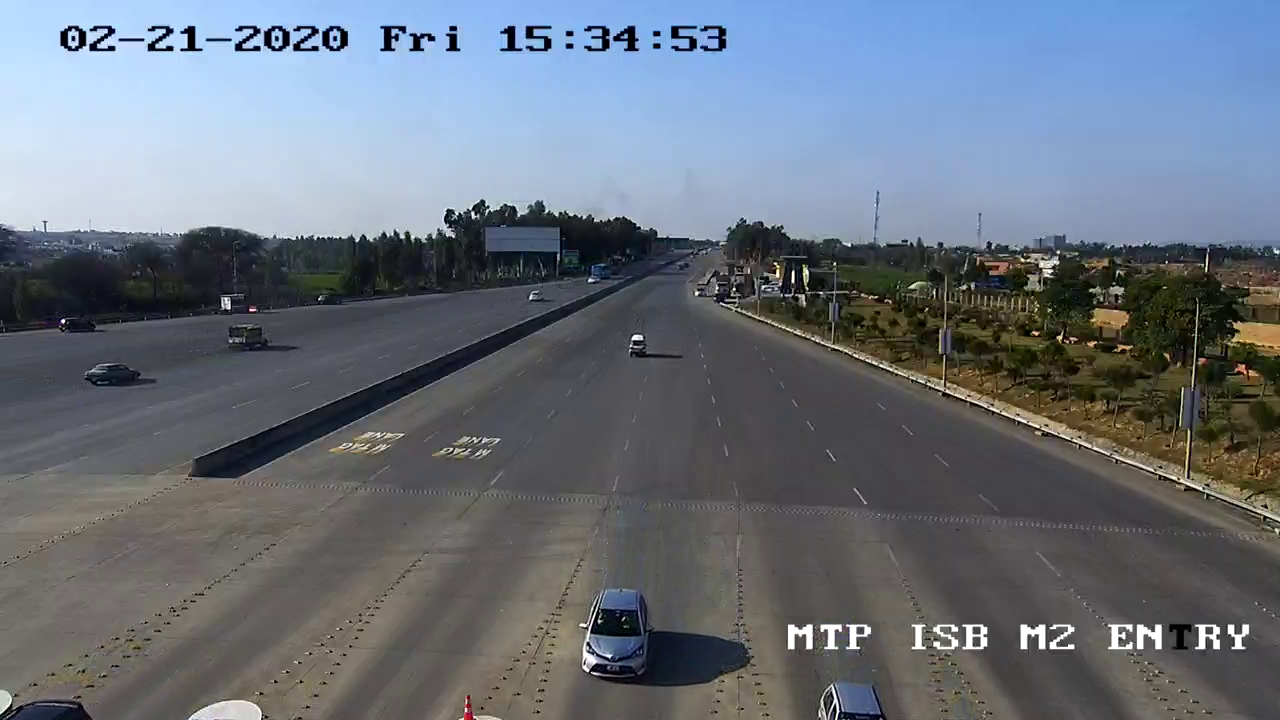f1: (574, 584, 666, 684), (619, 324, 655, 369)
